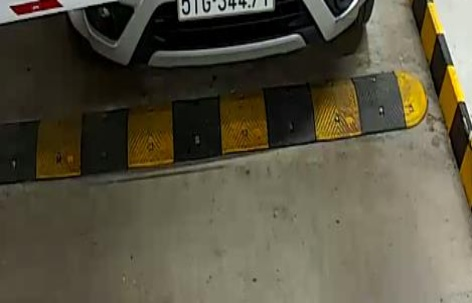plate: (175, 0, 277, 24)
